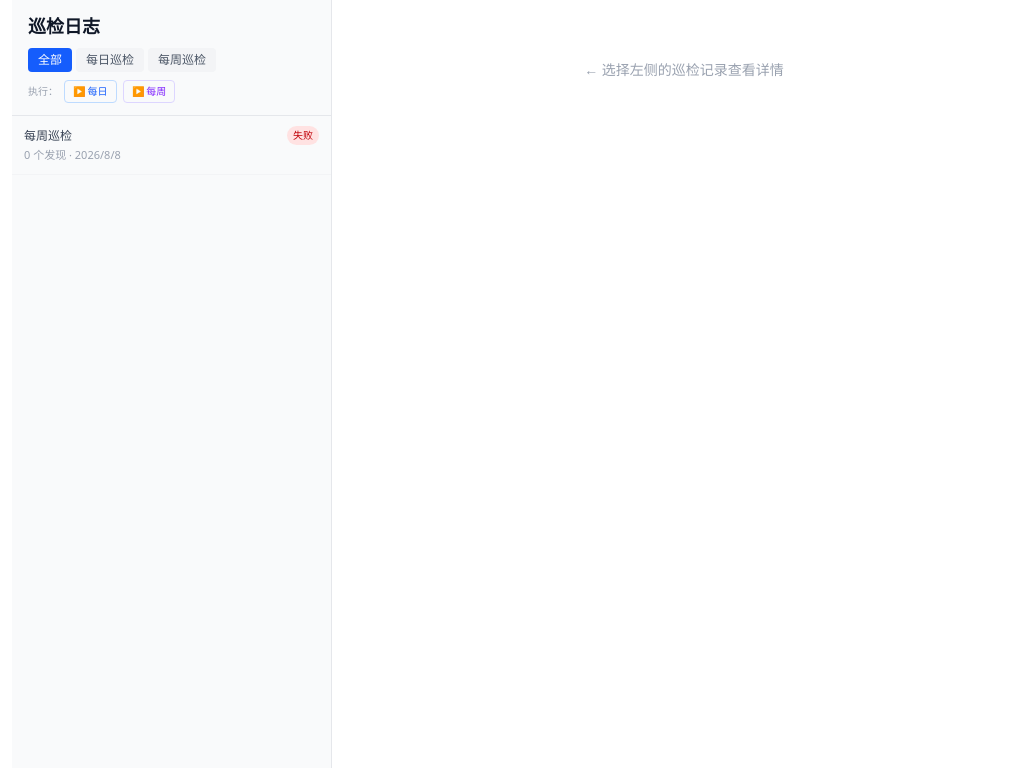
Test: PatrolPage › shows the failure reason of a failed patrol
This screenshot has width=1036, height=768.
Click the text "0 个发现 · 2026/8/8".
click(72, 154)  # box [24,147,121,162]
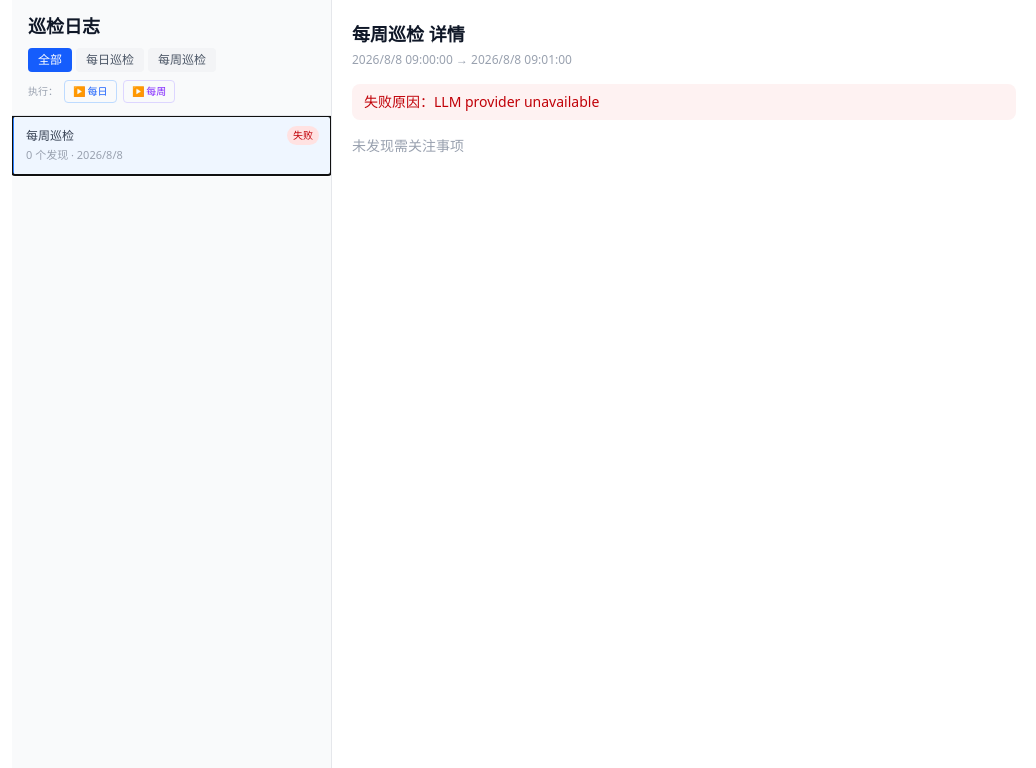
Result: the text "失败原因：LLM provider unavailable" is shown at [352,84,1016,120]
